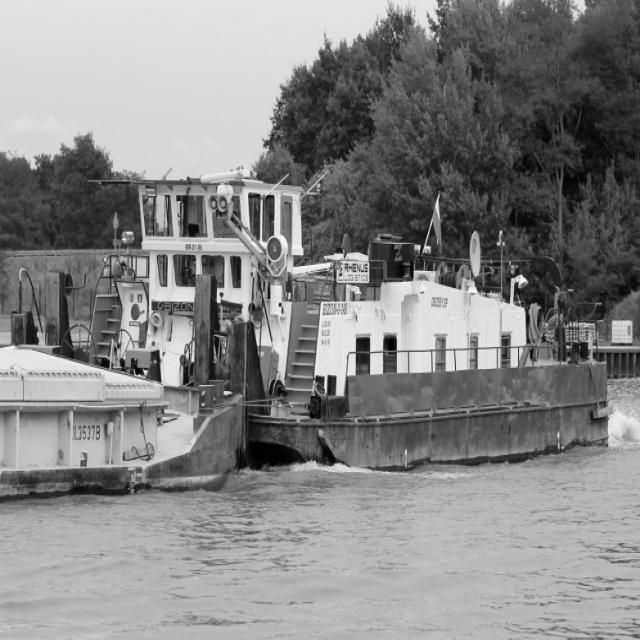tugboat: (36, 164, 618, 487)
